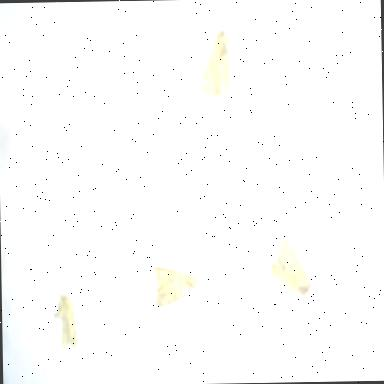abw: (252, 230, 334, 305), (190, 13, 246, 106), (142, 260, 214, 314), (47, 291, 84, 365)
